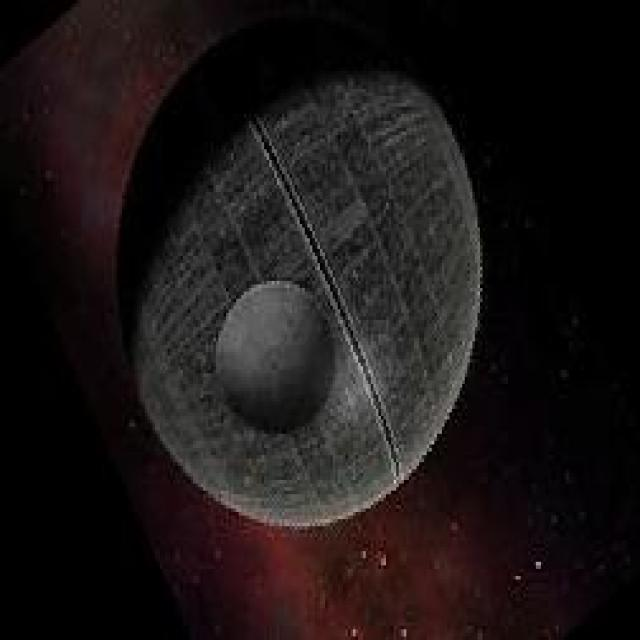Death Star: (122, 54, 488, 534)
